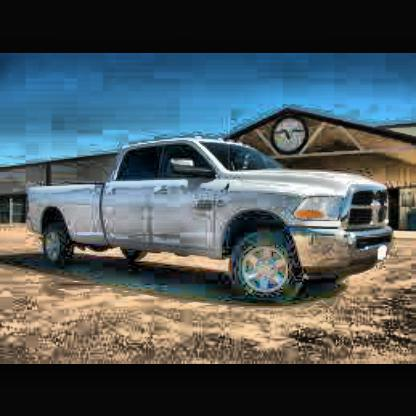Dodge Ram Pickup 3500 Crew Cab 2010: (29, 136, 398, 306)
